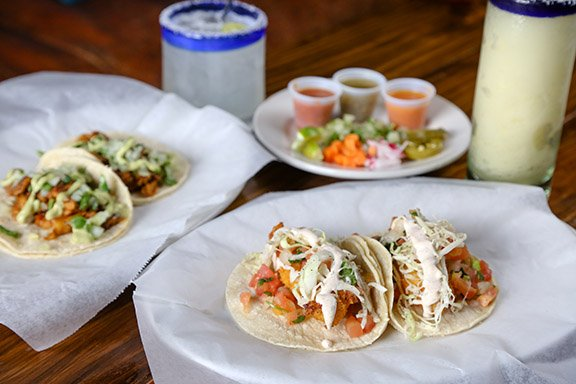pizza: (465, 0, 576, 187), (159, 0, 268, 123), (332, 65, 390, 122), (381, 76, 436, 130), (289, 76, 343, 129)
soup: (225, 221, 393, 352)
